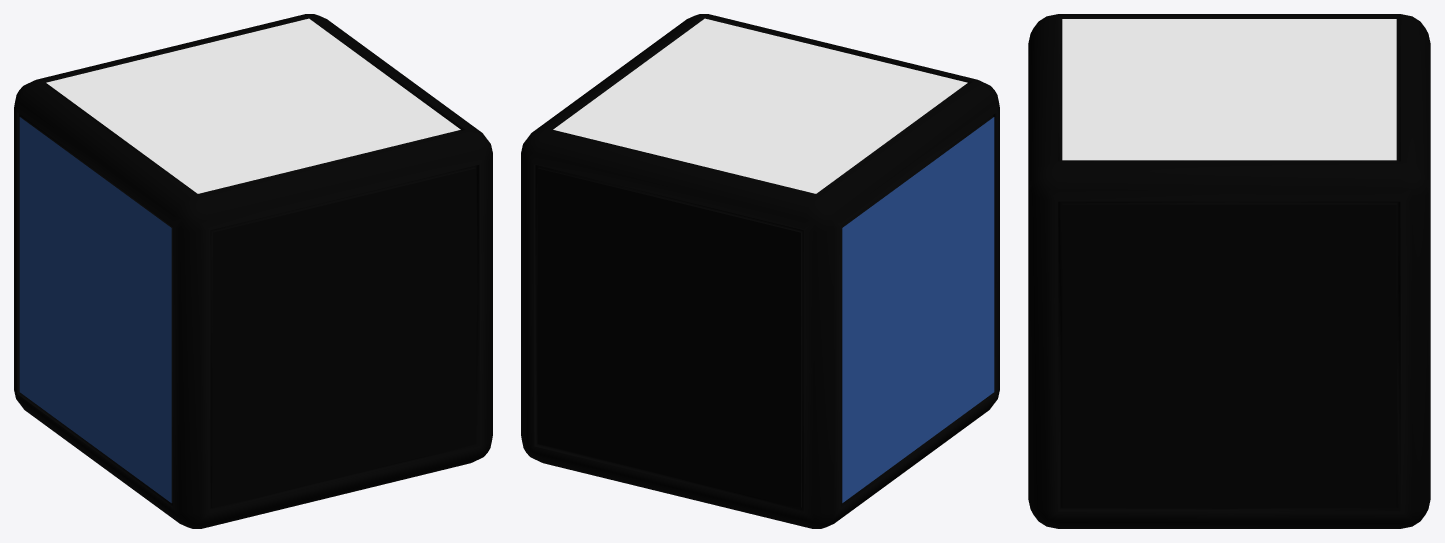
Rendered from oneCubeObjToOrg22.gltf.
3 renders of one model, left to right at view 1: azimuth 30°, elevation 25°; view 2: azimuth 150°, elevation 25°; view 3: azimuth 270°, elevation 25°, orthographic. The views are drawn at different scales.
Visible parts, largest first — view 1: Cube.007; view 2: Cube.007; view 3: Cube.007.
Part boxes in pixels (x1,y1,x2,y2): Cube.007: (14,14,492,528); Cube.007: (521,14,999,528); Cube.007: (1028,14,1430,528).
Size of the model in its own units: 2 by 2 by 2.
